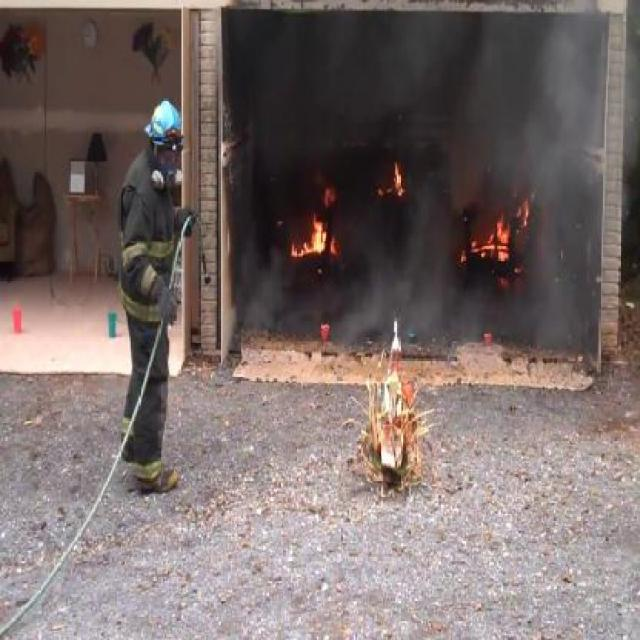fire: (460, 202, 552, 282), (290, 182, 332, 275), (368, 162, 422, 220)
smoke: (258, 33, 606, 153), (360, 216, 449, 347)
